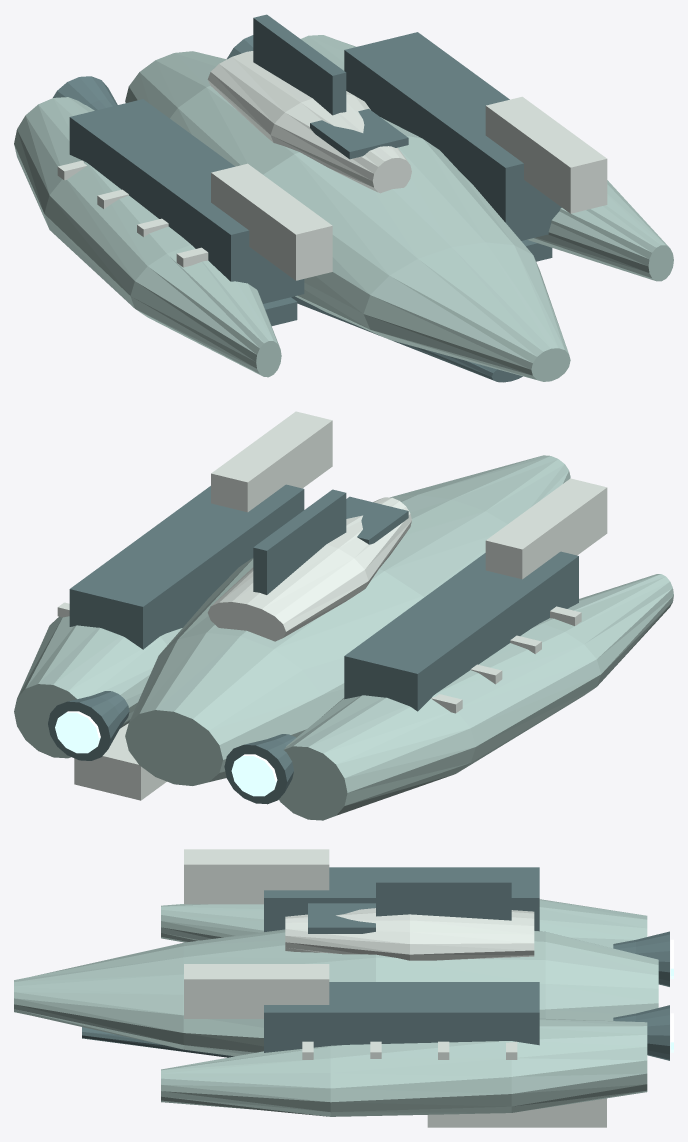
3 views of the same model, one above another, from view 1: azimuth 30°, elevation 25°; view 2: azimuth 150°, elevation 25°; view 3: azimuth 270°, elevation 25° (orthographic). The views are drawn at different scales.
Size of the model in its own units: 12.81 by 5.88 by 18.18.
